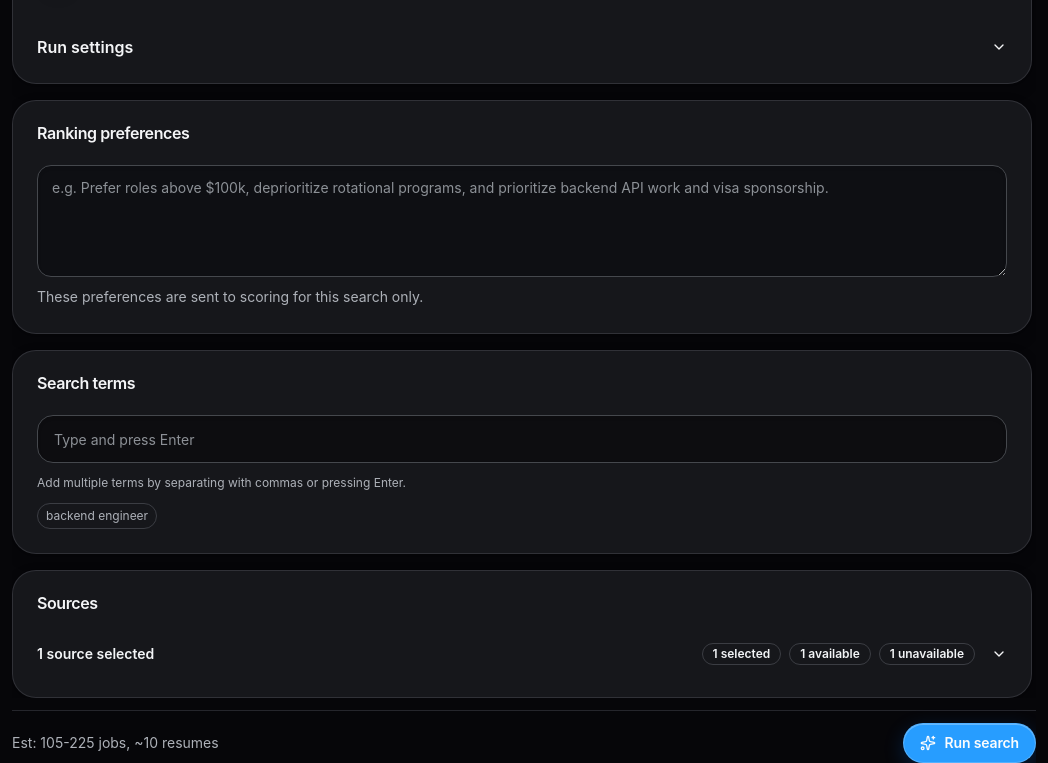
Test: AutomaticRunTab › disables glassdoor for unsupported countries with guidance copy
(page scrolled)
Click the button with aria-label "Review and edit sources".
click(96, 654)  # box x1=37 y1=635 x2=1007 y2=673
(page scrolled)
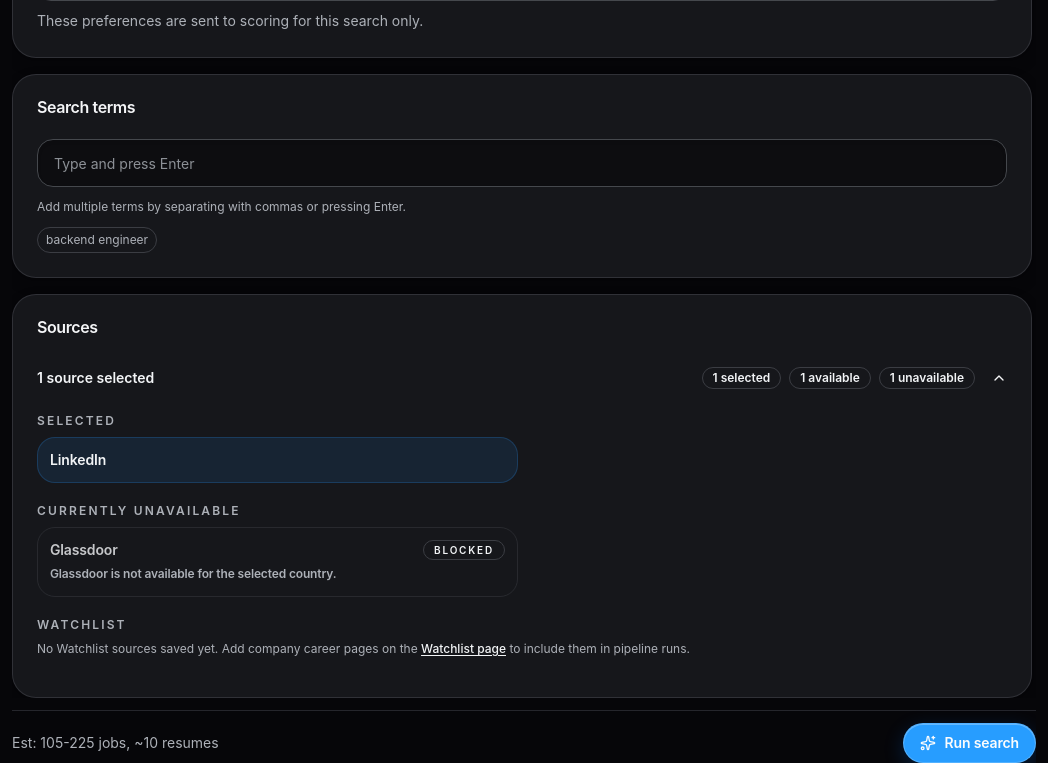
expect the button "Glassdoor" is disabled: met, box x1=37 y1=527 x2=518 y2=597
